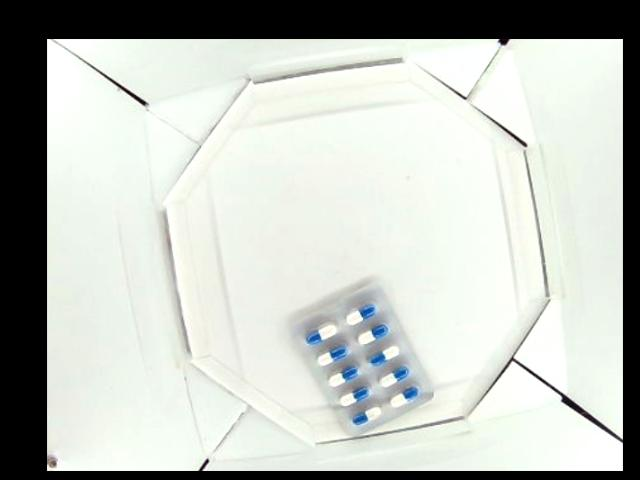Medicine: (290, 283, 435, 440)
